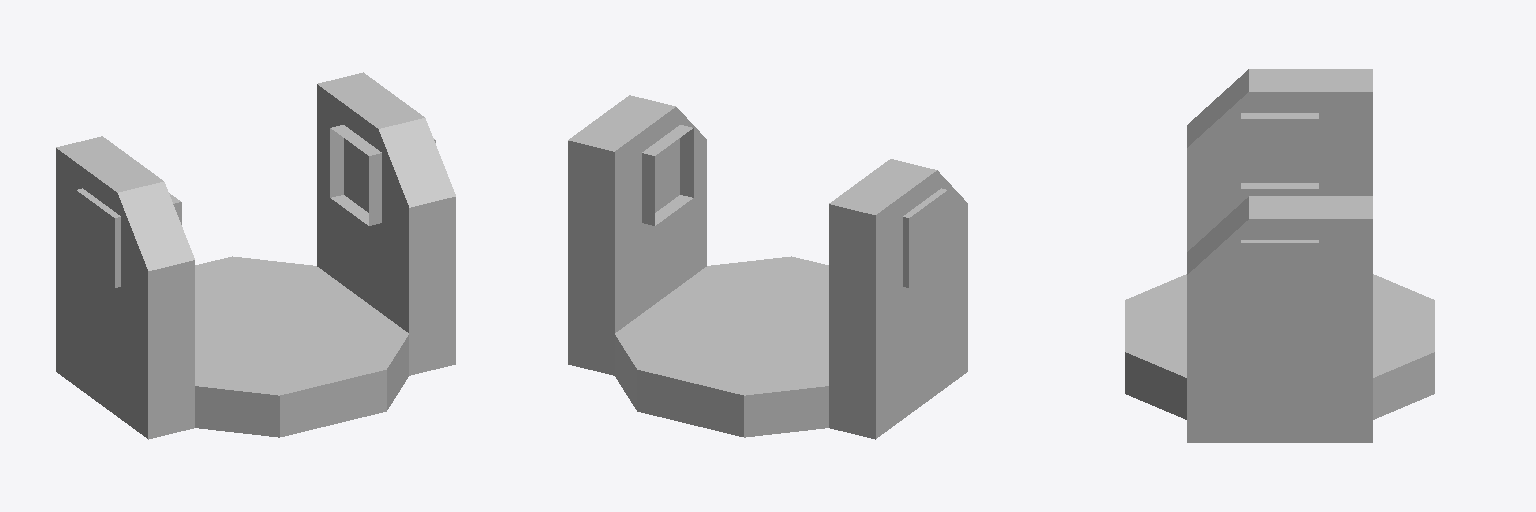
File: phage_ray.obj
3 views of the same model, side by side, from view 1: azimuth 30°, elevation 25°; view 2: azimuth 150°, elevation 25°; view 3: azimuth 270°, elevation 25° (orthographic).
Parts seen in each view (by area): view 1: cube; view 2: cube; view 3: cube.
Part boxes in pixels (left/top/right/bottom): cube: left=56, top=72, right=455, bottom=439; cube: left=568, top=95, right=967, bottom=439; cube: left=1125, top=69, right=1434, bottom=442.
Bounding box in the file's own units: 3 × 2 × 2.5.